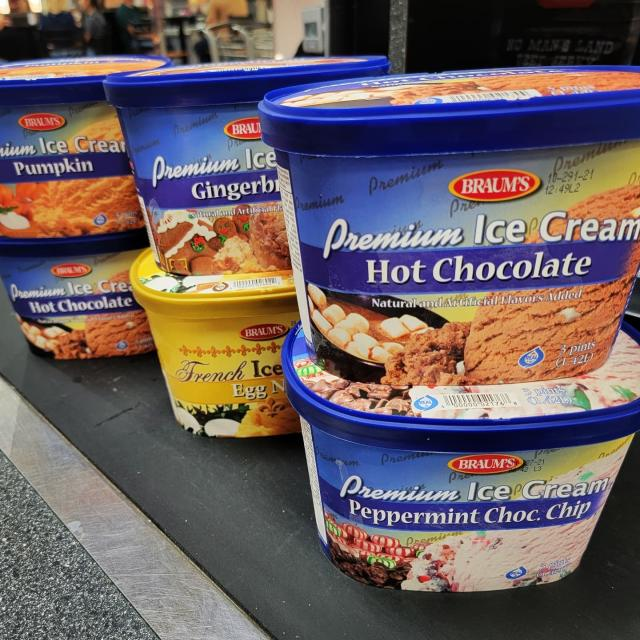plastic: (260, 69, 640, 598), (95, 62, 374, 440), (0, 49, 162, 364)
